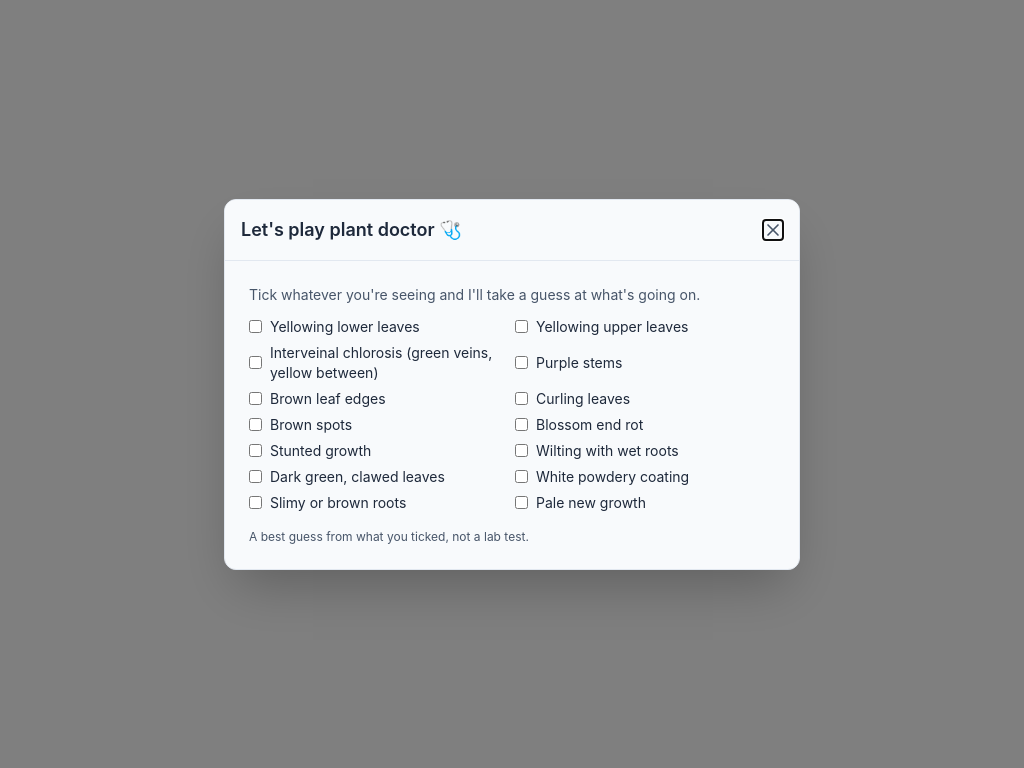
it: DeficiencyHelper › ticking "Purple stems" shows Phosphorus in the results
Click the checkbox labelled "Purple stems": click(522, 362) [515, 356, 528, 369]
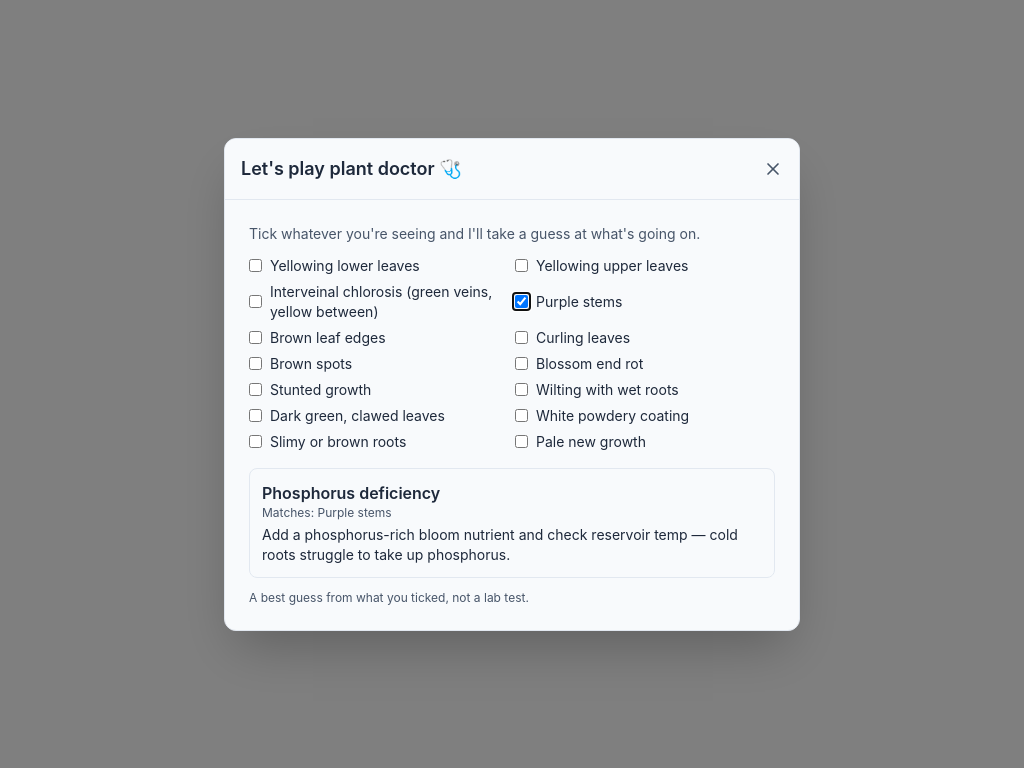
Now the text "Phosphorus deficiency" is shown, box [262, 482, 440, 502]
